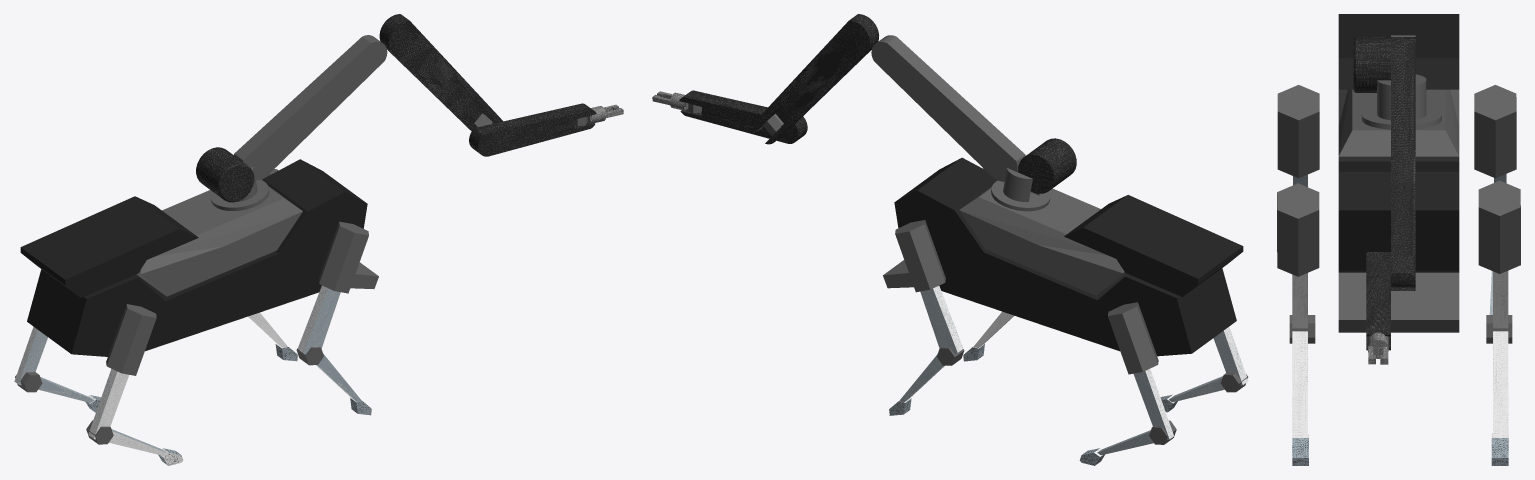
File: robot1.fbx
3 views of the same model, side by side, from view 1: azimuth 30°, elevation 25°; view 2: azimuth 150°, elevation 25°; view 3: azimuth 270°, elevation 25° (orthographic). The views are drawn at different scales.
Visible parts, largest first — view 1: Group1; view 2: Group1; view 3: Group1.
Part boxes in pixels (x1,y1,x2,y2): Group1: (14, 14, 623, 465); Group1: (652, 14, 1248, 465); Group1: (1277, 14, 1520, 465).
Bounding box in the file's own units: 4.47 × 2.64 × 1.23.
